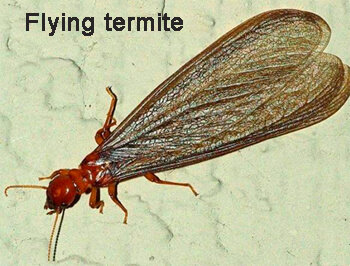flying termite: (2, 6, 350, 263)
